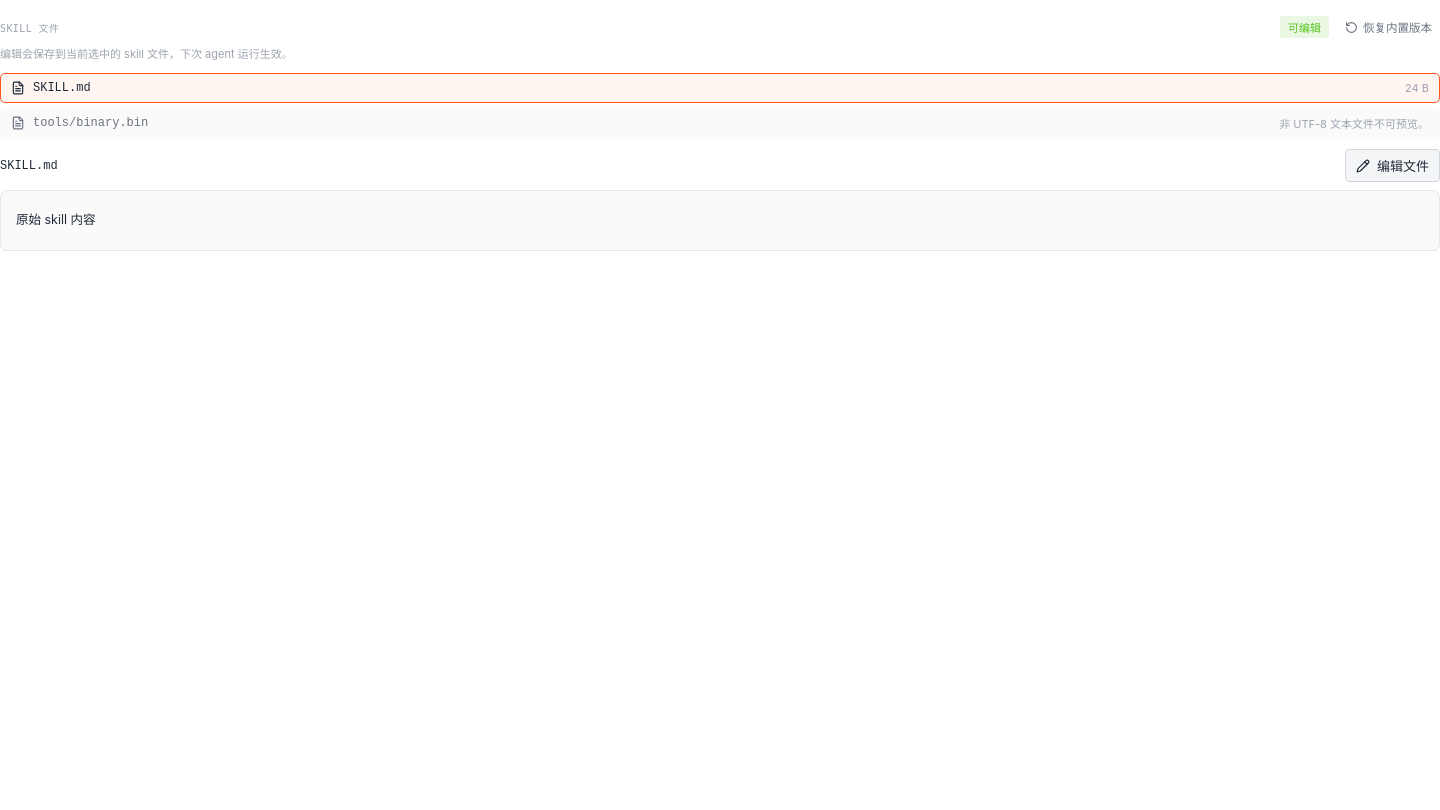
Test case: SkillFilePreview › locks file editing while the restore confirmation is open
Expected: the text "原始 skill 内容" is shown, [16, 212, 96, 227]
Step 1. Click the button "恢复内置版本" → (1388, 27), box [1337, 14, 1439, 40]
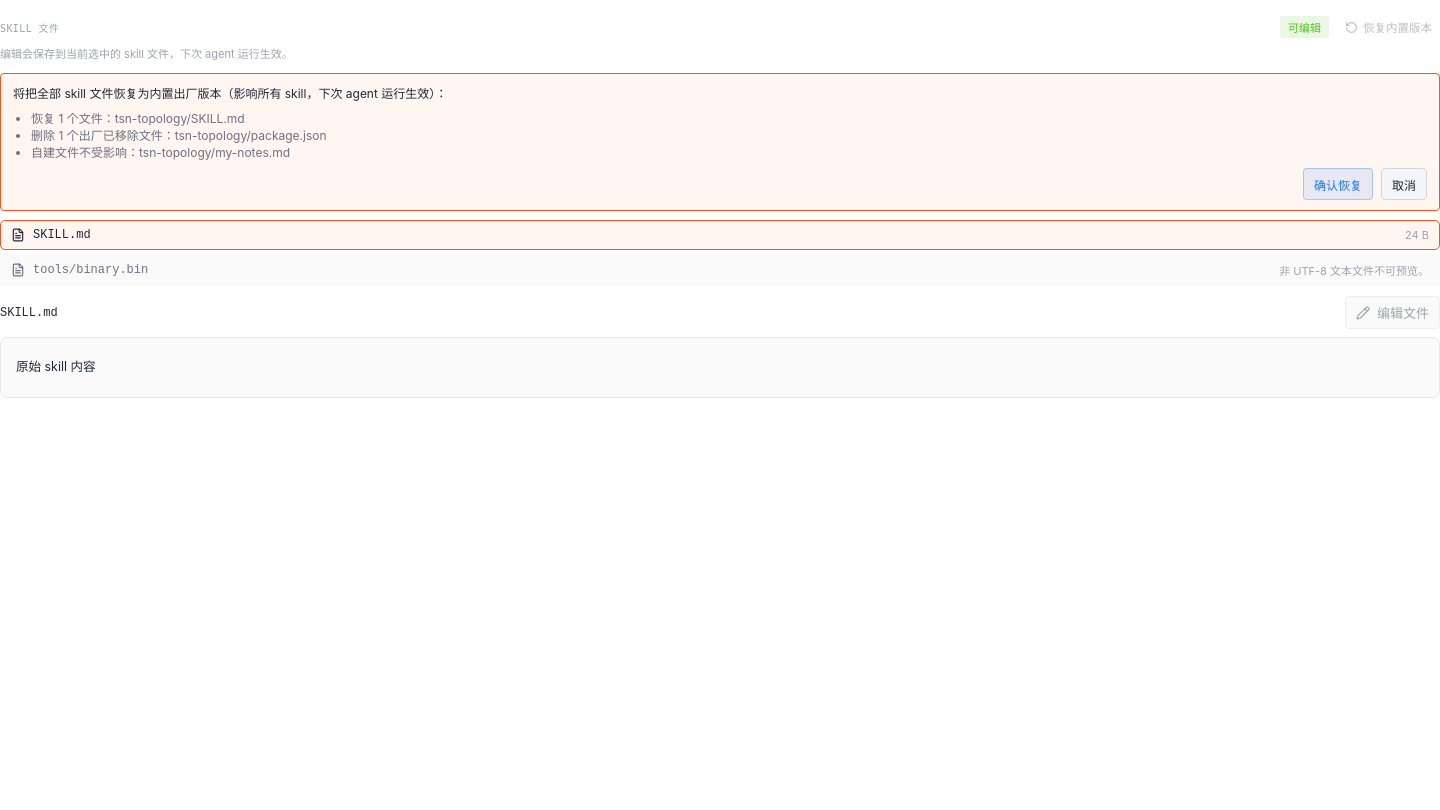
Expected: the dialog named "恢复内置版本确认" is shown, [0, 73, 1439, 211]
Expected: the button "编辑文件" is disabled, [1345, 296, 1439, 329]
Step 2. Click the button "取消" → (1404, 184), box [1381, 168, 1427, 200]
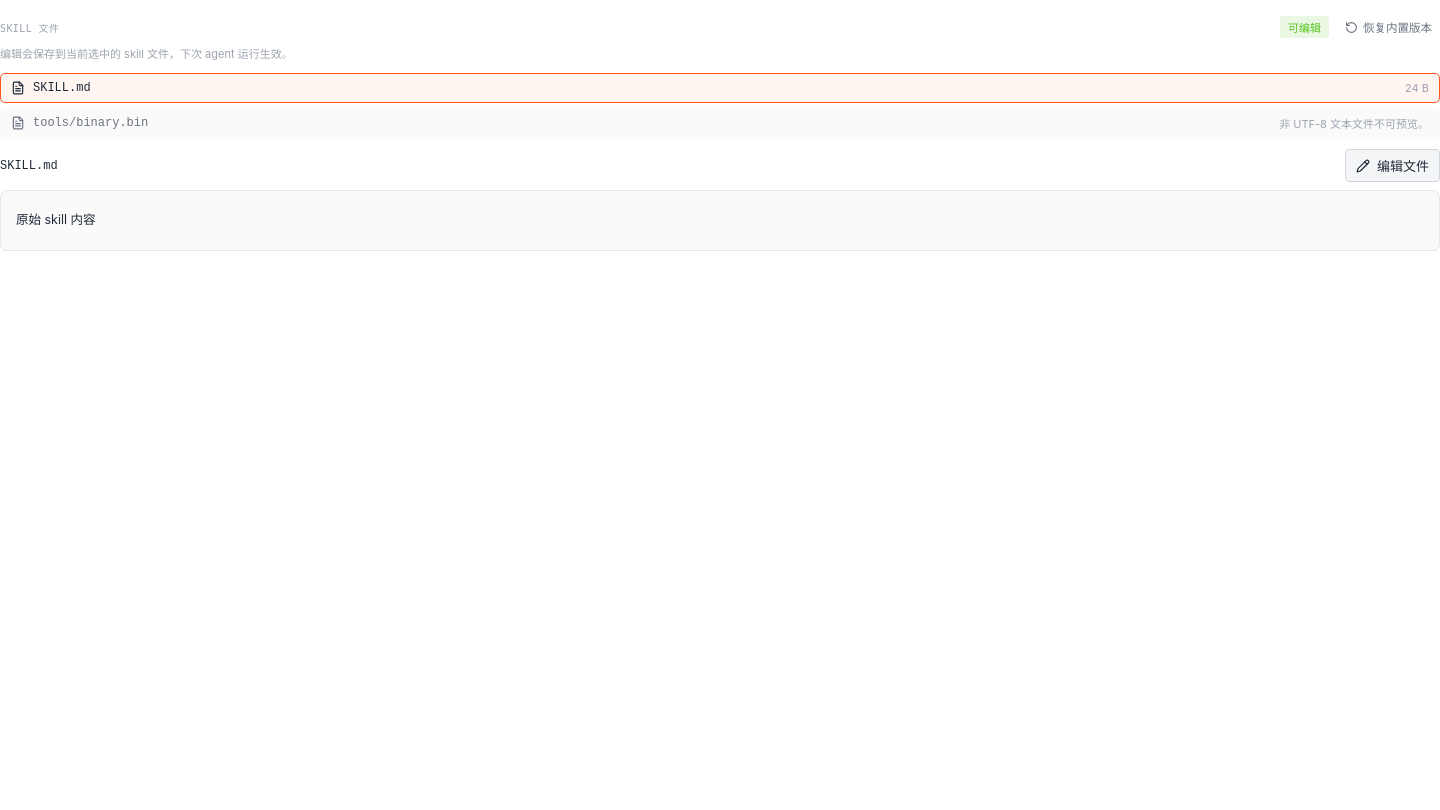
Expected: the button "编辑文件" is enabled, [1345, 149, 1439, 182]
